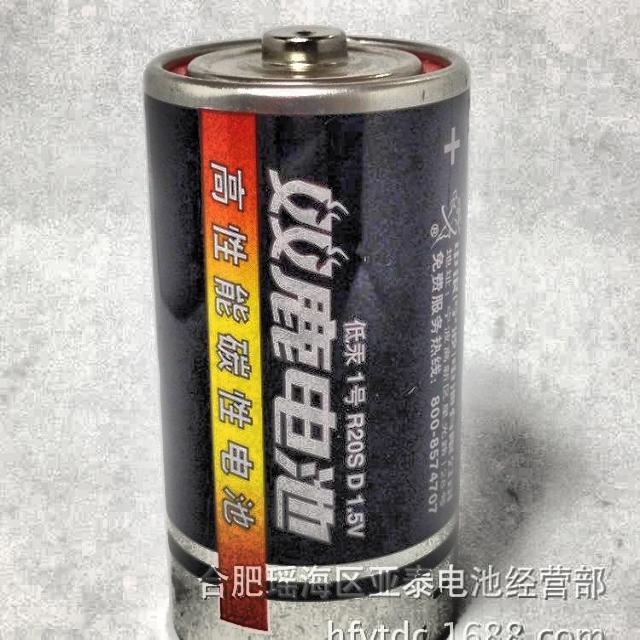Non-Valuable Waste - Batteries: (145, 27, 469, 636)
